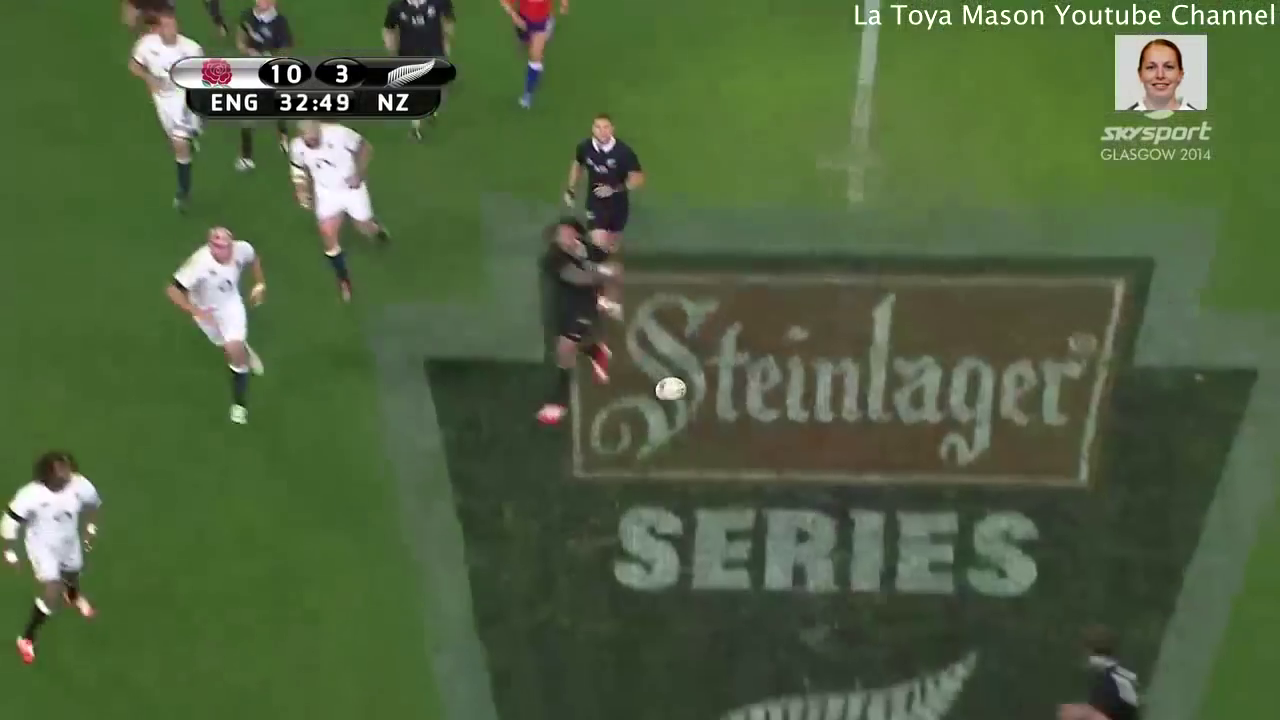ball: (640, 367, 695, 415)
player: (159, 220, 295, 436), (273, 100, 409, 312), (1, 437, 114, 670), (121, 11, 233, 234), (527, 214, 624, 433), (553, 97, 653, 285), (371, 1, 468, 155), (1035, 614, 1154, 720), (492, 1, 577, 112)
